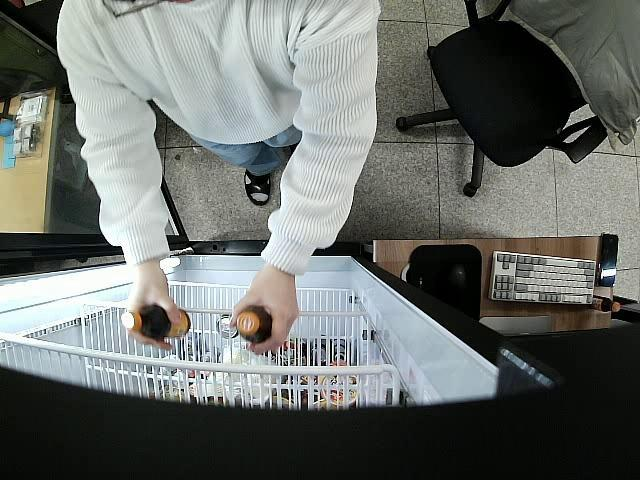17_vita500: (120, 305, 190, 340), (236, 306, 272, 344)
